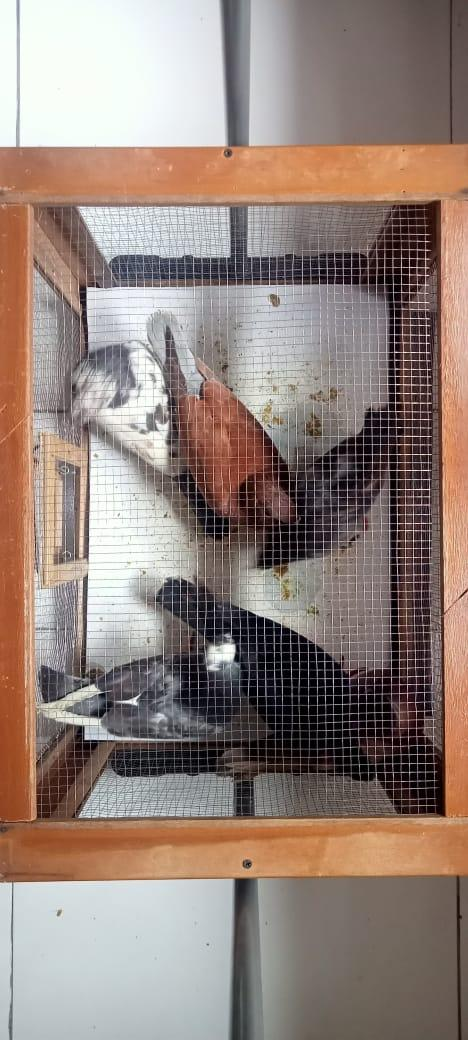Merpati: (147, 309, 301, 530), (155, 578, 362, 739), (65, 341, 229, 539), (259, 407, 404, 570), (224, 668, 426, 777), (37, 635, 244, 741)
